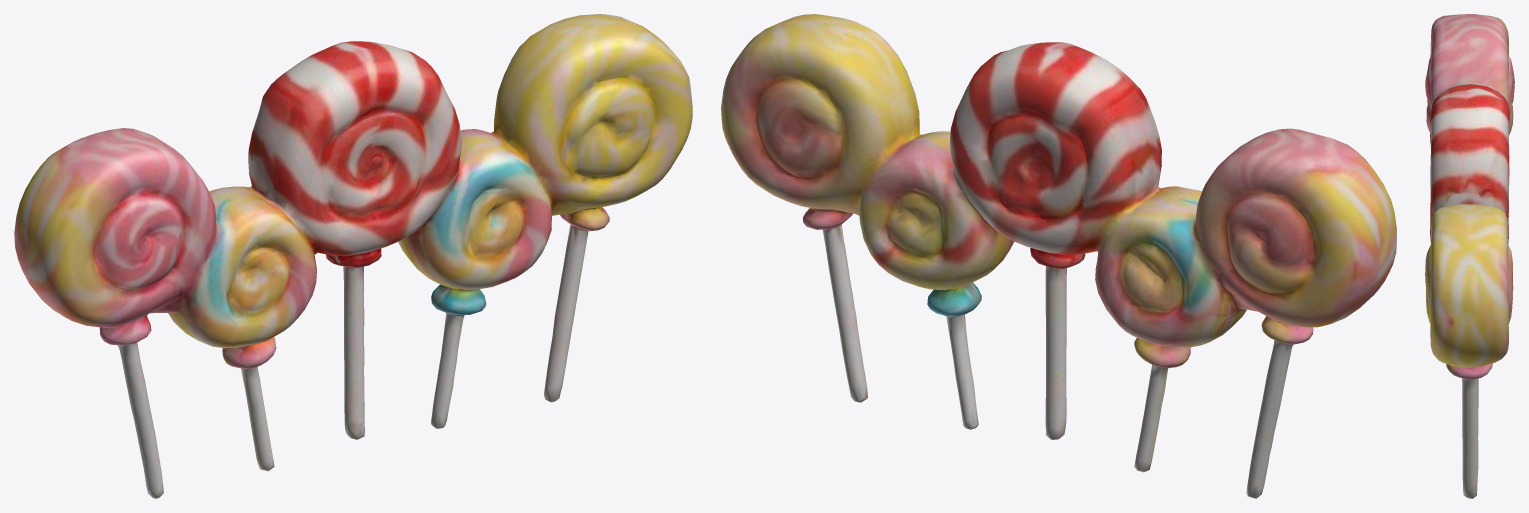
3 renders of one model, left to right at view 1: azimuth 30°, elevation 25°; view 2: azimuth 150°, elevation 25°; view 3: azimuth 270°, elevation 25°, orthographic. The views are drawn at different scales.
Size of the model in its own units: 2.01 by 1.18 by 0.2941.
1 material, 1 textured.
